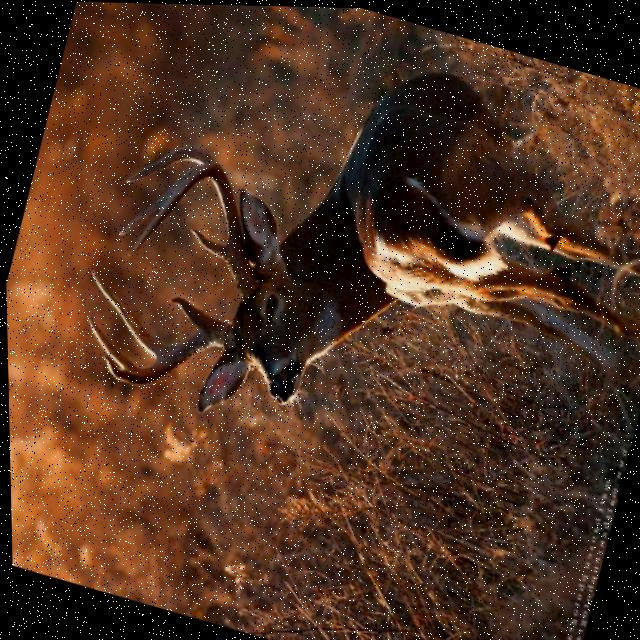E1: (116, 191, 163, 235)
L-F: (99, 317, 231, 386)
L-G1: (166, 294, 213, 329)
L-G2: (88, 269, 170, 359)
L-G3: (84, 313, 140, 371)
R-F: (124, 160, 255, 298)
R-G1: (187, 226, 225, 262)
R-G2: (123, 144, 215, 183)
